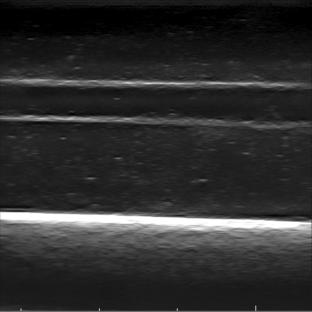vessel: (5, 78, 311, 128)
